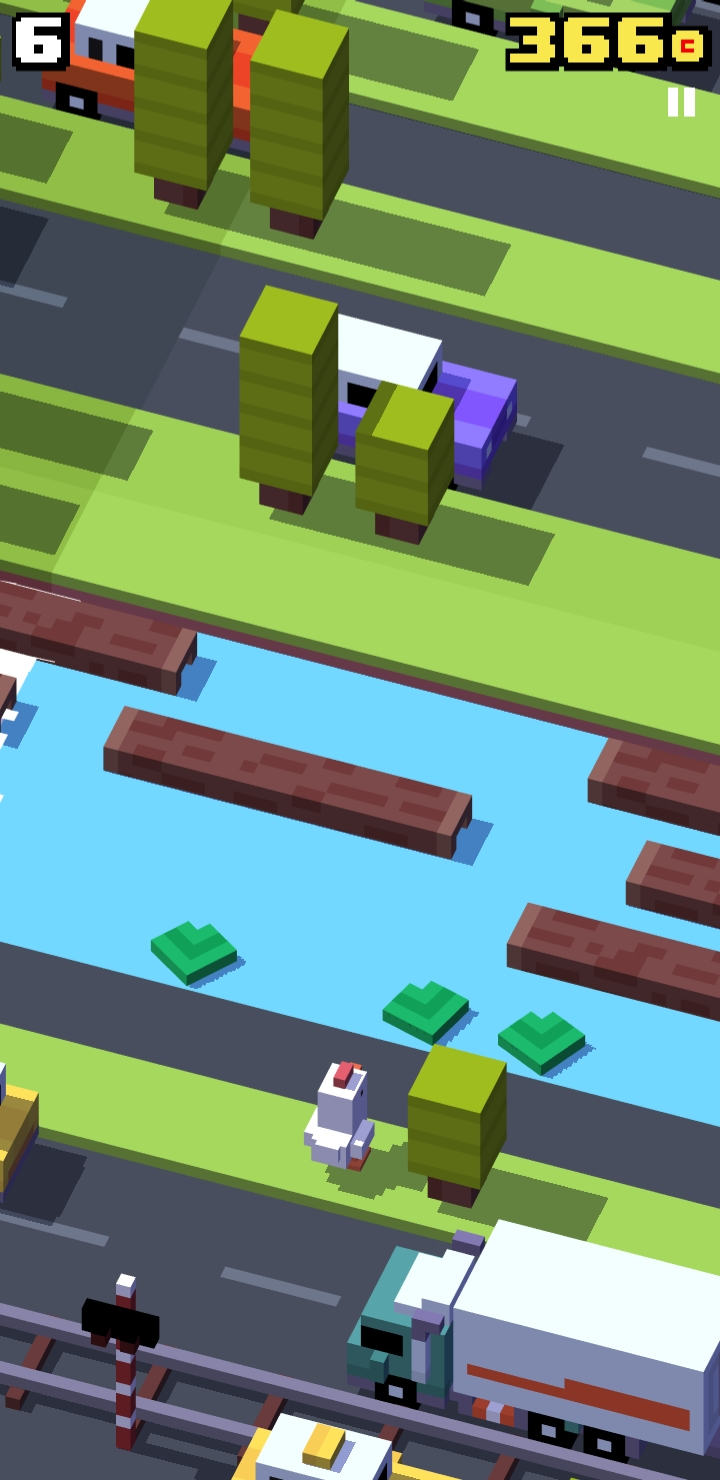car: (254, 297, 525, 502), (30, 3, 291, 153), (1, 1045, 44, 1179)
duck: (301, 1059, 386, 1181)
lilypad: (148, 902, 244, 990), (384, 962, 472, 1041), (496, 1009, 591, 1078)
log: (104, 702, 475, 855), (1, 567, 211, 693), (508, 897, 720, 1021), (589, 729, 720, 829), (623, 836, 720, 924)
tree: (220, 284, 344, 526), (244, 17, 354, 247), (127, 2, 232, 219), (401, 1045, 515, 1217), (342, 386, 458, 548)
truck: (334, 1202, 720, 1457)
